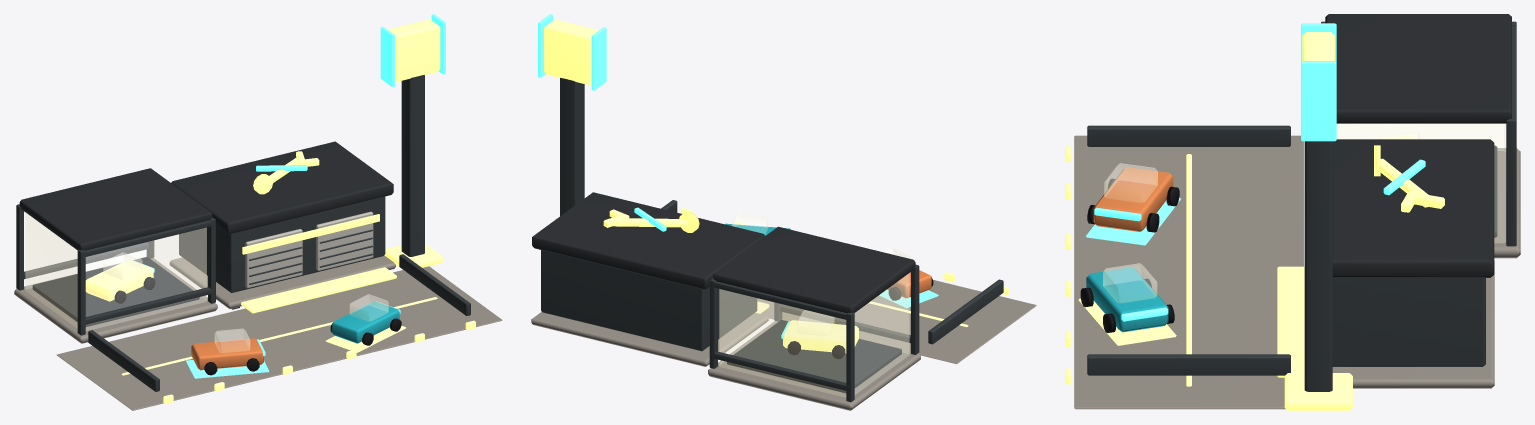
The model's file is commercial-garage-hero.glb.
3 renders of one model, left to right at view 1: azimuth 30°, elevation 25°; view 2: azimuth 150°, elevation 25°; view 3: azimuth 270°, elevation 25°, orthographic. The views are drawn at different scales.
Visible parts, largest first — view 1: commercial_garage_hero_forecourt_lane, commercial_garage_hero_showroom_glass_cube, commercial_garage_hero_service_bay_roof, commercial_garage_hero_showroom_roof_cap, commercial_garage_hero_service_bay_shed, commercial_garage_hero_corner_pylon_sign, commercial_garage_hero_showroom_dark_floor, commercial_garage_hero_showroom_plinth, commercial_garage_hero_service_plinth, commercial_garage_hero_corner_pylon_top_panel, commercial_garage_hero_service_bay_forecourt_threshold, commercial_garage_hero_rollup_door_right (+21 smaller); view 2: commercial_garage_hero_showroom_glass_cube, commercial_garage_hero_service_bay_shed, commercial_garage_hero_service_bay_roof, commercial_garage_hero_showroom_roof_cap, commercial_garage_hero_forecourt_lane, commercial_garage_hero_showroom_dark_floor, commercial_garage_hero_showroom_plinth, commercial_garage_hero_service_plinth, commercial_garage_hero_corner_pylon_sign, commercial_garage_hero_corner_pylon_top_panel, commercial_garage_hero_showroom_car_glow_body, commercial_garage_hero_forecourt_low_guard_-3.6 (+11 smaller); view 3: commercial_garage_hero_forecourt_lane, commercial_garage_hero_service_bay_roof, commercial_garage_hero_showroom_roof_cap, commercial_garage_hero_service_bay_shed, commercial_garage_hero_corner_pylon_sign, commercial_garage_hero_forecourt_low_guard_-3.6, commercial_garage_hero_forecourt_low_guard_+3.6, commercial_garage_hero_service_plinth, commercial_garage_hero_showroom_glass_cube, commercial_garage_hero_display_car_angle_right_body, commercial_garage_hero_display_car_angle_left_body, commercial_garage_hero_corner_pylon_cool_edge_right (+14 smaller).
Part boxes in pixels (x1,y1,x2,y2): commercial_garage_hero_forecourt_lane: (57, 266, 502, 410); commercial_garage_hero_showroom_glass_cube: (25, 212, 206, 330); commercial_garage_hero_service_bay_roof: (171, 141, 393, 234); commercial_garage_hero_showroom_roof_cap: (19, 168, 212, 250); commercial_garage_hero_service_bay_shed: (179, 196, 385, 292); commercial_garage_hero_corner_pylon_sign: (401, 75, 424, 256); commercial_garage_hero_showroom_dark_floor: (32, 257, 199, 326); commercial_garage_hero_showroom_plinth: (14, 256, 217, 343); commercial_garage_hero_service_plinth: (169, 255, 395, 308); commercial_garage_hero_corner_pylon_top_panel: (388, 19, 440, 81); commercial_garage_hero_service_bay_forecourt_threshold: (241, 267, 396, 313); commercial_garage_hero_rollup_door_right: (316, 211, 373, 270); commercial_garage_hero_showroom_glass_cube: (719, 273, 909, 397); commercial_garage_hero_service_bay_shed: (541, 250, 757, 351); commercial_garage_hero_service_bay_roof: (532, 192, 765, 289); commercial_garage_hero_showroom_roof_cap: (713, 226, 915, 313); commercial_garage_hero_forecourt_lane: (757, 280, 1036, 364); commercial_garage_hero_showroom_dark_floor: (727, 320, 901, 393); commercial_garage_hero_showroom_plinth: (708, 319, 920, 410); commercial_garage_hero_service_plinth: (531, 312, 768, 366); commercial_garage_hero_corner_pylon_sign: (560, 78, 584, 215); commercial_garage_hero_corner_pylon_top_panel: (544, 19, 598, 85); commercial_garage_hero_showroom_car_glow_body: (783, 320, 858, 353); commercial_garage_hero_forecourt_low_guard_-3.6: (928, 279, 1003, 344); commercial_garage_hero_forecourt_lane: (1074, 135, 1303, 409); commercial_garage_hero_service_bay_roof: (1332, 139, 1494, 277); commercial_garage_hero_showroom_roof_cap: (1325, 14, 1511, 123); commercial_garage_hero_service_bay_shed: (1332, 278, 1485, 366); commercial_garage_hero_corner_pylon_sign: (1304, 141, 1332, 391); commercial_garage_hero_forecourt_low_guard_-3.6: (1087, 125, 1290, 146); commercial_garage_hero_forecourt_low_guard_+3.6: (1087, 354, 1290, 375); commercial_garage_hero_service_plinth: (1332, 260, 1494, 388); commercial_garage_hero_showroom_glass_cube: (1336, 123, 1505, 242); commercial_garage_hero_display_car_angle_right_body: (1086, 267, 1168, 332); commercial_garage_hero_display_car_angle_left_body: (1093, 167, 1173, 231); commercial_garage_hero_corner_pylon_cool_edge_right: (1301, 61, 1336, 141).
Size of the model in its own units: 9.14 by 5.42 by 6.15.
